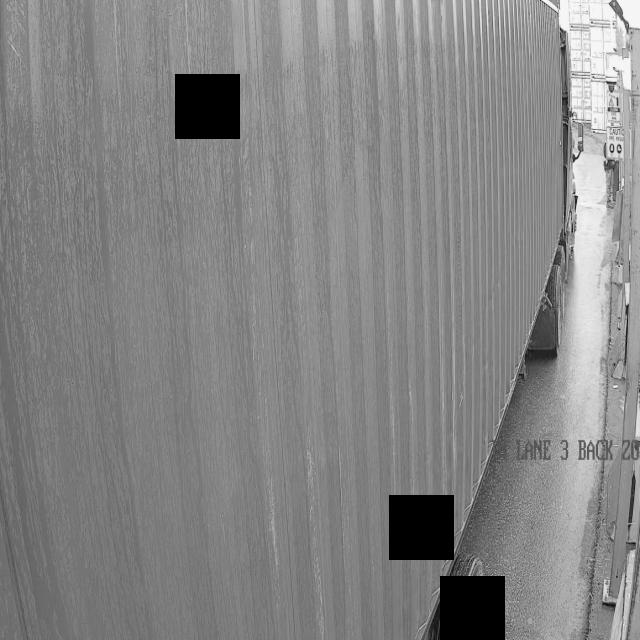truck_with_container: (0, 0, 580, 640)
